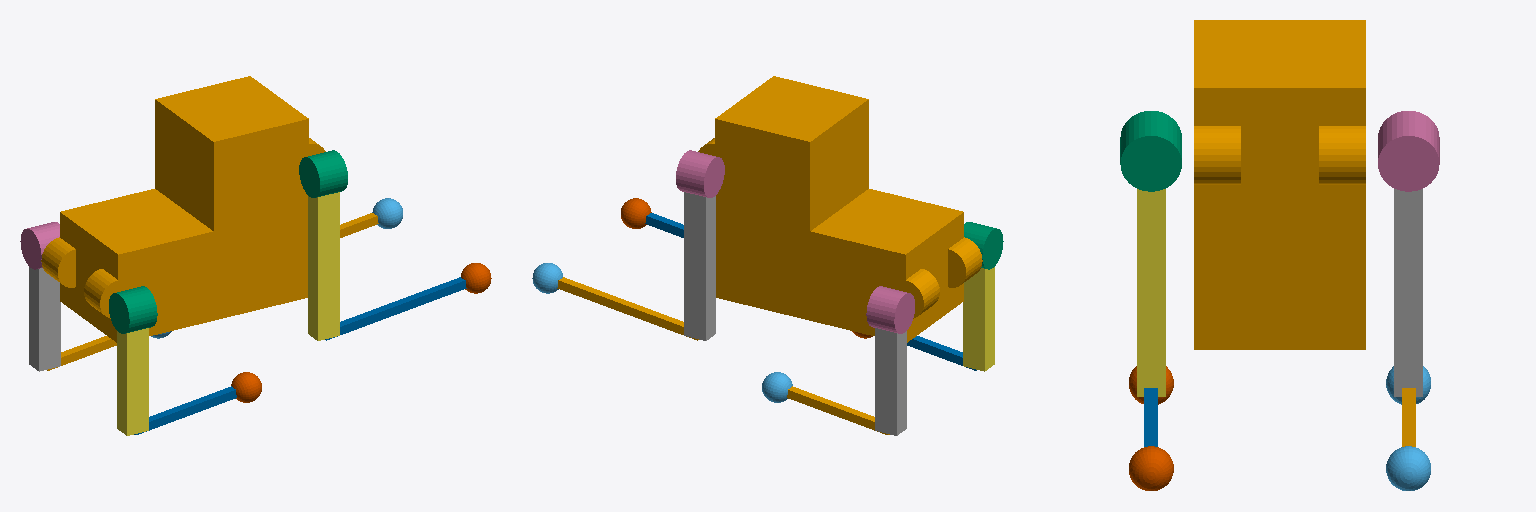
--- What the picture shows (computed from the rendered views, not written in the file) ---
3 views of the same robot in one strip: view 1: azimuth 30°, elevation 25°; view 2: azimuth 150°, elevation 25°; view 3: azimuth 270°, elevation 25° (orthographic).
Model laikago with 18 links and 17 joints (12 revolute, 5 fixed), rooted at trunk, posed joints at zero except 4 at the middle of their limits (FR_calf_joint = -1.69, FL_calf_joint = -1.69, RR_calf_joint = -1.69, RL_calf_joint = -1.69).
Links seen in each view (by area): view 1: trunk, FR_thigh, RR_thigh, RL_thigh, FR_hip, RR_hip, FR_calf, RR_calf, RL_hip, RL_calf, RR_foot, FL_foot (+1 smaller); view 2: trunk, FL_thigh, RL_thigh, RR_thigh, FL_hip, RL_hip, FL_calf, RL_calf, RR_hip, RR_calf, RL_foot, FR_foot (+1 smaller); view 3: trunk, FR_thigh, FL_thigh, FR_hip, FL_hip, FR_foot, FL_foot, FR_calf, FL_calf.
Boxes of the visible links, bbox=[...] form: trunk: bbox=[41, 76, 325, 342]; FR_thigh: bbox=[308, 192, 339, 340]; RR_thigh: bbox=[117, 328, 148, 435]; RL_thigh: bbox=[29, 267, 60, 371]; FR_hip: bbox=[299, 150, 347, 197]; RR_hip: bbox=[109, 286, 157, 333]; FR_calf: bbox=[325, 277, 466, 340]; RR_calf: bbox=[134, 386, 236, 434]; RL_hip: bbox=[20, 222, 59, 269]; RL_calf: bbox=[47, 336, 116, 370]; RR_foot: bbox=[231, 372, 261, 402]; FL_foot: bbox=[372, 198, 402, 228]; trunk: bbox=[698, 76, 982, 342]; FL_thigh: bbox=[684, 192, 715, 340]; RL_thigh: bbox=[875, 328, 906, 435]; RR_thigh: bbox=[963, 267, 994, 371]; FL_hip: bbox=[676, 150, 724, 197]; RL_hip: bbox=[866, 286, 914, 333]; FL_calf: bbox=[557, 277, 698, 340]; RL_calf: bbox=[787, 386, 889, 434]; RR_hip: bbox=[964, 222, 1003, 269]; RR_calf: bbox=[907, 336, 976, 370]; RL_foot: bbox=[762, 372, 792, 402]; FR_foot: bbox=[621, 198, 651, 228]; trunk: bbox=[1194, 20, 1365, 349]; FR_thigh: bbox=[1137, 189, 1165, 396]; FL_thigh: bbox=[1394, 189, 1422, 396]; FR_hip: bbox=[1120, 116, 1181, 191]; FL_hip: bbox=[1378, 116, 1439, 191]; FR_foot: bbox=[1129, 446, 1173, 490]; FL_foot: bbox=[1386, 446, 1430, 490]; FR_calf: bbox=[1144, 388, 1157, 446]; FL_calf: bbox=[1402, 388, 1415, 446].
Bounding box of the posed robot: 0.7372 × 0.372 × 0.4849 m (x, y, z).
Geometry: primitives only (box / cylinder / sphere), no mesh files.

URDF robot description (laikago):
<?xml version="1.0" ?>
<!-- =================================================================================== -->
<!-- |    This document was autogenerated by xacro from robot.xacro                    | -->
<!-- |    EDITING THIS FILE BY HAND IS NOT RECOMMENDED                                 | -->
<!-- =================================================================================== -->
<robot name="laikago">
  <!--    <xacro:property name="J1" value="0.5"/>-->
  <!--    <xacro:property name="L1" value="0.2"/>-->
  <!--    <xacro:property name="J2" value="${hip_mass}"/>-->
  <!--    <xacro:property name="L2" value="${thigh_mass}"/>-->
  <!--    <xacro:property name="J3" value="0.0"/>-->
  <!--    <xacro:property name="L3" value="0.0"/>-->
  <!--    <xacro:property name="J4" value="0.0"/>-->
  <!--    <xacro:property name="L4" value="${calf_mass * 1}"/>-->
  <!--    <xacro:property name="J5" value="0.0"/>-->
  <!--    <xacro:property name="L5" value="0.0"/>-->
  <!--    <xacro:property name="J6" value="0.0"/>-->
  <!--    <xacro:property name="hand" value="0.0"/>-->
  <material name="black">
    <color rgba="0.0 0.0 0.0 1.0"/>
  </material>
  <material name="blue">
    <color rgba="0.0 0.0 0.8 1.0"/>
  </material>
  <material name="green">
    <color rgba="0.0 0.8 0.0 1.0"/>
  </material>
  <material name="grey">
    <color rgba="0.2 0.2 0.2 1.0"/>
  </material>
  <material name="silver">
    <color rgba="0.9137254901960784 0.9137254901960784 0.8470588235294118 1.0"/>
  </material>
  <material name="orange">
    <color rgba="1.0 0.4235294117647059 0.0392156862745098 1.0"/>
  </material>
  <material name="brown">
    <color rgba="0.8705882352941177 0.8117647058823529 0.7647058823529411 1.0"/>
  </material>
  <material name="red">
    <color rgba="0.8 0.0 0.0 1.0"/>
  </material>
  <material name="white">
    <color rgba="1.0 1.0 1.0 1.0"/>
  </material>
  <!-- <xacro:include filename="$(find laikago_description)/xacro/transmission.xacro"/> -->
  <!-- <xacro:include filename="$(find laikago_description)/xacro/transmission.xacro"/> -->
  <!-- <xacro:include filename="gazebo.xacro"/> -->
  <!-- <link name="base">
        <visual>
            <origin rpy="0 0 0" xyz="0 0 0"/>
            <geometry>
                <box size="0.001 0.001 0.001"/>
            </geometry>
        </visual>
    </link>

    <joint name="floating_base" type="fixed">
        <origin rpy="0 0 0" xyz="0 0 0"/>
        <parent link="base"/>
        <child link="trunk"/>
    </joint> -->
  <link name="trunk">
    <!-- <visual>
            <origin rpy="0 0 0" xyz="0 0 0"/>
            <geometry>
                <mesh filename="package://laikago_description/meshes/trunk.dae" scale="1 1 1"/>
            </geometry>
            <material name="orange"/>
        </visual> -->
    <visual>
      <origin rpy="0 0 0" xyz="0 0 0.0"/>
      <geometry>
        <box size="0.375 0.2 0.168"/>
      </geometry>
    </visual>
    <visual>
      <origin rpy="0 0 0" xyz="0.09375 0 0.168"/>
      <geometry>
        <box size="0.1875 0.2 0.168"/>
      </geometry>
    </visual>
    <visual>
      <origin rpy="1.5707963267948966 0 0" xyz="0.1875 0.0725 0.168"/>
      <geometry>
        <cylinder length="0.055" radius="0.036"/>
      </geometry>
    </visual>
    <visual>
      <origin rpy="1.5707963267948966 0 0" xyz="0.1875 -0.0725 0.168"/>
      <geometry>
        <cylinder length="0.055" radius="0.036"/>
      </geometry>
    </visual>
    <visual>
      <origin rpy="1.5707963267948966 0 0" xyz="-0.1875 0.0725 0.0"/>
      <geometry>
        <cylinder length="0.055" radius="0.036"/>
      </geometry>
    </visual>
    <visual>
      <origin rpy="1.5707963267948966 0 0" xyz="-0.1875 -0.0725 0.0"/>
      <geometry>
        <cylinder length="0.055" radius="0.036"/>
      </geometry>
    </visual>
    <collision>
      <origin rpy="0 0 0" xyz="0 0 0.0"/>
      <geometry>
        <box size="0.375 0.2 0.168"/>
      </geometry>
    </collision>
    <collision>
      <origin rpy="0 0 0" xyz="0.09375 0 0.168"/>
      <geometry>
        <box size="0.1875 0.2 0.168"/>
      </geometry>
    </collision>
    <inertial>
      <origin rpy="0 0 0" xyz="0.0 0.0 0.0"/>
      <mass value="10.0"/>
      <inertia ixx="0.08" ixy="0.0" ixz="0.0" iyy="0.25" iyz="-0.0" izz="0.25"/>
    </inertial>
  </link>
  <joint name="imu_joint" type="fixed">
    <parent link="trunk"/>
    <child link="imu_link"/>
    <origin rpy="0 0 0" xyz="0 0 0"/>
  </joint>
  <link name="imu_link">
    <inertial>
      <mass value="0.001"/>
      <origin rpy="0 0 0" xyz="0 0 0"/>
      <inertia ixx="0.0001" ixy="0" ixz="0" iyy="0.000001" iyz="0" izz="0.0001"/>
    </inertial>
    <visual>
      <origin rpy="0 0 0" xyz="0 0 0"/>
      <geometry>
        <box size="0.001 0.001 0.001"/>
      </geometry>
      <material name="red"/>
    </visual>
    <collision>
      <origin rpy="0 0 0" xyz="0 0 0"/>
      <geometry>
        <box size=".001 .001 .001"/>
      </geometry>
    </collision>
  </link>
  <joint name="FR_hip_joint" type="revolute">
    <origin rpy="0 0 0" xyz="0.1875 -0.0725 0.168"/>
    <parent link="trunk"/>
    <child link="FR_hip"/>
    <axis xyz="0 1 0"/>
    <dynamics damping="0" friction="0"/>
    <limit effort="100.954" lower="-1.0471975511965976" upper="0.8726646259971648" velocity="27"/>
  </joint>
  <link name="FR_hip">
    <!-- <visual>
                <xacro:if value="${(mirror_dae == True) and (front_hind_dae == True)}">
                    <origin rpy="0 0 0" xyz="0 0 0"/>
                </xacro:if>
                <xacro:if value="${(mirror_dae == False) and (front_hind_dae == True)}">
                    <origin rpy="${PI} 0 0" xyz="0 0 0"/>
                </xacro:if>
                <xacro:if value="${(mirror_dae == True) and (front_hind_dae == False)}">
                    <origin rpy="0 ${PI} 0" xyz="0 0 0"/>
                </xacro:if>
                <xacro:if value="${(mirror_dae == False) and (front_hind_dae == False)}">
                    <origin rpy="${PI} ${PI} 0" xyz="0 0 0"/>
                </xacro:if>
                <geometry>
                    <mesh filename="package://laikago_description/meshes/hip.dae" scale="1 1 1"/>
                </geometry>
                <material name="orange"/>
            </visual> -->
    <visual>
      <origin rpy="0 1.5707963267948966 0" xyz="0 -0.0775 0"/>
      <geometry>
        <cylinder length="0.055" radius="0.036"/>
      </geometry>
    </visual>
    <collision>
      <origin rpy="0 1.5707963267948966 0" xyz="0 -0.0775 0"/>
      <geometry>
        <cylinder length="0.055" radius="0.036"/>
      </geometry>
    </collision>
    <inertial>
      <origin rpy="0 0 0" xyz="-0.001568 0.008134 0.000864"/>
      <mass value="0.55"/>
      <inertia ixx="0.000822113" ixy="4.982e-06" ixz="-3.672e-05" iyy="0.000983196" iyz="-2.811e-06" izz="0.000864753"/>
    </inertial>
  </link>
  <joint name="FR_thigh_joint" type="revolute">
    <origin rpy="0 0 0" xyz="0 -0.0775 0"/>
    <parent link="FR_hip"/>
    <child link="FR_thigh"/>
    <axis xyz="1 0 0"/>
    <dynamics damping="0" friction="0"/>
    <limit effort="100" lower="-0.5235987755982988" upper="3.9269908169872414" velocity="20.794"/>
  </joint>
  <link name="FR_thigh">
    <!-- <visual>
                <origin rpy="0 0 0" xyz="0 0 0"/>
                <geometry>
                    <xacro:if value="${mirror_dae == True}">
                        <mesh filename="package://laikago_description/meshes/thigh.dae" scale="1 1 1"/>
                    </xacro:if>
                    <xacro:if value="${mirror_dae == False}">
                        <mesh filename="package://laikago_description/meshes/thigh_mirror.dae" scale="1 1 1"/>
                    </xacro:if>
                </geometry>
                <material name="orange"/>
            </visual> -->
    <visual>
      <origin rpy="0 1.5707963267948966 0" xyz="0 0 -0.151"/>
      <geometry>
        <box size="0.302 0.034 0.043"/>
      </geometry>
    </visual>
    <collision>
      <origin rpy="0 1.5707963267948966 0" xyz="0 0 -0.151"/>
      <geometry>
        <box size="0.302 0.034 0.043"/>
      </geometry>
    </collision>
    <inertial>
      <origin rpy="0 0 0" xyz="-0.000482 -0.02001 -0.1"/>
      <mass value="1.6"/>
      <inertia ixx="0.00991611" ixy="-1.0388e-05" ixz="0.000250428" iyy="0.009280083" iyz="8.511e-05" izz="0.00178256"/>
    </inertial>
  </link>
  <joint name="FR_calf_joint" type="revolute">
    <origin rpy="0 0 0" xyz="0 0 -0.302"/>
    <parent link="FR_thigh"/>
    <child link="FR_calf"/>
    <axis xyz="0 1 0"/>
    <dynamics damping="0" friction="0"/>
    <limit effort="100" lower="-2.775073510670984" upper="-0.6108652381980153" velocity="20.794"/>
  </joint>
  <link name="FR_calf">
    <!-- <visual>
                <origin rpy="0 0 0" xyz="0 0 0"/>
                <geometry>
                    <mesh filename="package://laikago_description/meshes/calf.dae" scale="1 1 1"/>
                </geometry>
                <material name="orange"/>
            </visual> -->
    <visual>
      <origin rpy="0 1.5707963267948966 0" xyz="0 0 -0.151"/>
      <geometry>
        <box size="0.302 0.016 0.016"/>
      </geometry>
    </visual>
    <collision>
      <origin rpy="0 1.5707963267948966 0" xyz="0 0 -0.151"/>
      <geometry>
        <box size="0.302 0.016 0.016"/>
      </geometry>
    </collision>
    <inertial>
      <origin rpy="0 0 0" xyz="-0.002196 -0.000381 -0.2"/>
      <mass value="1.7"/>
      <inertia ixx="0.006181961" ixy="2.37e-07" ixz="-2.985e-06" iyy="0.006196546" iyz="5.138e-06" izz="3.4774e-05"/>
    </inertial>
  </link>
  <joint name="FR_foot_fixed" type="fixed">
    <origin rpy="0 0 0" xyz="0 0 -0.302"/>
    <parent link="FR_calf"/>
    <child link="FR_foot"/>
  </joint>
  <link name="FR_foot">
    <!-- <visual>
                <origin rpy="0 0 0" xyz="0 0 0"/>
                <geometry>
                    <sphere radius="${foot_radius-0.01}"/>
                </geometry>
                <material name="orange"/>
            </visual> -->
    <visual>
      <origin rpy="0 0 0" xyz="0 0 0"/>
      <geometry>
        <sphere radius="0.0265"/>
      </geometry>
    </visual>
    <collision>
      <origin rpy="0 0 0" xyz="0 0 0"/>
      <geometry>
        <sphere radius="0.0265"/>
      </geometry>
    </collision>
    <inertial>
      <mass value="0.06"/>
      <inertia ixx="1.6853999999999998e-05" ixy="0.0" ixz="0.0" iyy="1.6853999999999998e-05" iyz="0.0" izz="1.6853999999999998e-05"/>
    </inertial>
  </link>
  <!-- <xacro:leg_transmission name="${name}"/> -->
  <joint name="FL_hip_joint" type="revolute">
    <origin rpy="0 0 0" xyz="0.1875 0.0725 0.168"/>
    <parent link="trunk"/>
    <child link="FL_hip"/>
    <axis xyz="0 1 0"/>
    <dynamics damping="0" friction="0"/>
    <limit effort="100.954" lower="-0.8726646259971648" upper="1.0471975511965976" velocity="27"/>
  </joint>
  <link name="FL_hip">
    <!-- <visual>
                <xacro:if value="${(mirror_dae == True) and (front_hind_dae == True)}">
                    <origin rpy="0 0 0" xyz="0 0 0"/>
                </xacro:if>
                <xacro:if value="${(mirror_dae == False) and (front_hind_dae == True)}">
                    <origin rpy="${PI} 0 0" xyz="0 0 0"/>
                </xacro:if>
                <xacro:if value="${(mirror_dae == True) and (front_hind_dae == False)}">
                    <origin rpy="0 ${PI} 0" xyz="0 0 0"/>
                </xacro:if>
                <xacro:if value="${(mirror_dae == False) and (front_hind_dae == False)}">
                    <origin rpy="${PI} ${PI} 0" xyz="0 0 0"/>
                </xacro:if>
                <geometry>
                    <mesh filename="package://laikago_description/meshes/hip.dae" scale="1 1 1"/>
                </geometry>
                <material name="orange"/>
            </visual> -->
    <visual>
      <origin rpy="0 1.5707963267948966 0" xyz="0 0.0775 0"/>
      <geometry>
        <cylinder length="0.055" radius="0.036"/>
      </geometry>
    </visual>
    <collision>
      <origin rpy="0 1.5707963267948966 0" xyz="0 0.0775 0"/>
      <geometry>
        <cylinder length="0.055" radius="0.036"/>
      </geometry>
    </collision>
    <inertial>
      <origin rpy="0 0 0" xyz="-0.001568 -0.008134 0.000864"/>
      <mass value="0.55"/>
      <inertia ixx="0.000822113" ixy="-4.982e-06" ixz="-3.672e-05" iyy="0.000983196" iyz="2.811e-06" izz="0.000864753"/>
    </inertial>
  </link>
  <joint name="FL_thigh_joint" type="revolute">
    <origin rpy="0 0 0" xyz="0 0.0775 0"/>
    <parent link="FL_hip"/>
    <child link="FL_thigh"/>
    <axis xyz="1 0 0"/>
    <dynamics damping="0" friction="0"/>
    <limit effort="100" lower="-0.5235987755982988" upper="3.9269908169872414" velocity="20.794"/>
  </joint>
  <link name="FL_thigh">
    <!-- <visual>
                <origin rpy="0 0 0" xyz="0 0 0"/>
                <geometry>
                    <xacro:if value="${mirror_dae == True}">
                        <mesh filename="package://laikago_description/meshes/thigh.dae" scale="1 1 1"/>
                    </xacro:if>
                    <xacro:if value="${mirror_dae == False}">
                        <mesh filename="package://laikago_description/meshes/thigh_mirror.dae" scale="1 1 1"/>
                    </xacro:if>
                </geometry>
                <material name="orange"/>
            </visual> -->
    <visual>
      <origin rpy="0 1.5707963267948966 0" xyz="0 0 -0.151"/>
      <geometry>
        <box size="0.302 0.034 0.043"/>
      </geometry>
    </visual>
    <collision>
      <origin rpy="0 1.5707963267948966 0" xyz="0 0 -0.151"/>
      <geometry>
        <box size="0.302 0.034 0.043"/>
      </geometry>
    </collision>
    <inertial>
      <origin rpy="0 0 0" xyz="-0.000482 0.02001 -0.1"/>
      <mass value="1.6"/>
      <inertia ixx="0.00991611" ixy="1.0388e-05" ixz="0.000250428" iyy="0.009280083" iyz="-8.511e-05" izz="0.00178256"/>
    </inertial>
  </link>
  <joint name="FL_calf_joint" type="revolute">
    <origin rpy="0 0 0" xyz="0 0 -0.302"/>
    <parent link="FL_thigh"/>
    <child link="FL_calf"/>
    <axis xyz="0 1 0"/>
    <dynamics damping="0" friction="0"/>
    <limit effort="100" lower="-2.775073510670984" upper="-0.6108652381980153" velocity="20.794"/>
  </joint>
  <link name="FL_calf">
    <!-- <visual>
                <origin rpy="0 0 0" xyz="0 0 0"/>
                <geometry>
                    <mesh filename="package://laikago_description/meshes/calf.dae" scale="1 1 1"/>
                </geometry>
                <material name="orange"/>
            </visual> -->
    <visual>
      <origin rpy="0 1.5707963267948966 0" xyz="0 0 -0.151"/>
      <geometry>
        <box size="0.302 0.016 0.016"/>
      </geometry>
    </visual>
    <collision>
      <origin rpy="0 1.5707963267948966 0" xyz="0 0 -0.151"/>
      <geometry>
        <box size="0.302 0.016 0.016"/>
      </geometry>
    </collision>
    <inertial>
      <origin rpy="0 0 0" xyz="-0.002196 -0.000381 -0.2"/>
      <mass value="1.7"/>
      <inertia ixx="0.006181961" ixy="2.37e-07" ixz="-2.985e-06" iyy="0.006196546" iyz="5.138e-06" izz="3.4774e-05"/>
    </inertial>
  </link>
  <joint name="FL_foot_fixed" type="fixed">
    <origin rpy="0 0 0" xyz="0 0 -0.302"/>
    <parent link="FL_calf"/>
    <child link="FL_foot"/>
  </joint>
  <link name="FL_foot">
    <!-- <visual>
                <origin rpy="0 0 0" xyz="0 0 0"/>
                <geometry>
                    <sphere radius="${foot_radius-0.01}"/>
                </geometry>
                <material name="orange"/>
            </visual> -->
    <visual>
      <origin rpy="0 0 0" xyz="0 0 0"/>
      <geometry>
        <sphere radius="0.0265"/>
      </geometry>
    </visual>
    <collision>
      <origin rpy="0 0 0" xyz="0 0 0"/>
      <geometry>
        <sphere radius="0.0265"/>
      </geometry>
    </collision>
    <inertial>
      <mass value="0.06"/>
      <inertia ixx="1.6853999999999998e-05" ixy="0.0" ixz="0.0" iyy="1.6853999999999998e-05" iyz="0.0" izz="1.6853999999999998e-05"/>
    </inertial>
  </link>
  <!-- <xacro:leg_transmission name="${name}"/> -->
  <joint name="RR_hip_joint" type="revolute">
    <origin rpy="0 0 0" xyz="-0.1875 -0.0725 0.0"/>
    <parent link="trunk"/>
    <child link="RR_hip"/>
    <axis xyz="0 1 0"/>
    <dynamics damping="0" friction="0"/>
    <limit effort="100.954" lower="-1.0471975511965976" upper="0.8726646259971648" velocity="27"/>
  </joint>
  <link name="RR_hip">
    <!-- <visual>
                <xacro:if value="${(mirror_dae == True) and (front_hind_dae == True)}">
                    <origin rpy="0 0 0" xyz="0 0 0"/>
                </xacro:if>
                <xacro:if value="${(mirror_dae == False) and (front_hind_dae == True)}">
                    <origin rpy="${PI} 0 0" xyz="0 0 0"/>
                </xacro:if>
                <xacro:if value="${(mirror_dae == True) and (front_hind_dae == False)}">
                    <origin rpy="0 ${PI} 0" xyz="0 0 0"/>
                </xacro:if>
                <xacro:if value="${(mirror_dae == False) and (front_hind_dae == False)}">
                    <origin rpy="${PI} ${PI} 0" xyz="0 0 0"/>
                </xacro:if>
                <geometry>
                    <mesh filename="package://laikago_description/meshes/hip.dae" scale="1 1 1"/>
                </geometry>
                <material name="orange"/>
            </visual> -->
    <visual>
      <origin rpy="0 1.5707963267948966 0" xyz="0 -0.0775 0"/>
      <geometry>
        <cylinder length="0.055" radius="0.036"/>
      </geometry>
    </visual>
    <collision>
      <origin rpy="0 1.5707963267948966 0" xyz="0 -0.0775 0"/>
      <geometry>
        <cylinder length="0.055" radius="0.036"/>
      </geometry>
    </collision>
    <inertial>
      <origin rpy="0 0 0" xyz="0.001568 0.008134 0.000864"/>
      <mass value="1.096"/>
      <inertia ixx="0.000822113" ixy="-4.982e-06" ixz="3.672e-05" iyy="0.000983196" iyz="-2.811e-06" izz="0.000864753"/>
    </inertial>
  </link>
  <joint name="RR_thigh_joint" type="revolute">
    <origin rpy="0 0 0" xyz="0 -0.0775 0"/>
    <parent link="RR_hip"/>
    <child link="RR_thigh"/>
    <axis xyz="1 0 0"/>
    <dynamics damping="0" friction="0"/>
    <limit effort="100" lower="-0.5235987755982988" upper="3.9269908169872414" velocity="20.794"/>
  </joint>
  <link name="RR_thigh">
    <!-- <visual>
                <origin rpy="0 0 0" xyz="0 0 0"/>
                <geometry>
                    <xacro:if value="${mirror_dae == True}">
                        <mesh filename="package://laikago_description/meshes/thigh.dae" scale="1 1 1"/>
                    </xacro:if>
                    <xacro:if value="${mirror_dae == False}">
                        <mesh filename="package://laikago_description/meshes/thigh_mirror.dae" scale="1 1 1"/>
                    </xacro:if>
                </geometry>
                <material name="orange"/>
            </visual> -->
    <visual>
      <origin rpy="0 1.5707963267948966 0" xyz="0 0 -0.1125"/>
      <geometry>
        <box size="0.225 0.034 0.043"/>
      </geometry>
    </visual>
    <collision>
      <origin rpy="0 1.5707963267948966 0" xyz="0 0 -0.1125"/>
      <geometry>
        <box size="0.225 0.034 0.043"/>
      </geometry>
    </collision>
    <inertial>
      <origin rpy="0 0 0" xyz="-0.000482 -0.02001 -0.031996"/>
      <mass value="1.528"/>
      <inertia ixx="0.00991611" ixy="-1.0388e-05" ixz="0.000250428" iyy="0.009280083" iyz="8.511e-05" izz="0.00178256"/>
    </inertial>
  </link>
  <joint name="RR_calf_joint" type="revolute">
    <origin rpy="0 0 0" xyz="0 0 -0.225"/>
    <parent link="RR_thigh"/>
    <child link="RR_calf"/>
    <axis xyz="0 1 0"/>
    <dynamics damping="0" friction="0"/>
    <limit effort="100" lower="-2.775073510670984" upper="-0.6108652381980153" velocity="20.794"/>
  </joint>
  <link name="RR_calf">
    <!-- <visual>
                <origin rpy="0 0 0" xyz="0 0 0"/>
                <geometry>
                    <mesh filename="package://laikago_description/meshes/calf.dae" scale="1 1 1"/>
                </geometry>
                <material name="orange"/>
            </visual> -->
    <visual>
      <origin rpy="0 1.5707963267948966 0" xyz="0 0 -0.1125"/>
      <geometry>
        <box size="0.225 0.016 0.016"/>
      </geometry>
    </visual>
    <collision>
      <origin rpy="0 1.5707963267948966 0" xyz="0 0 -0.1125"/>
      <geometry>
        <box size="0.225 0.016 0.016"/>
      </geometry>
    </collision>
    <inertial>
      <origin rpy="0 0 0" xyz="-0.002196 -0.000381 -0.12338"/>
      <mass value="0.241"/>
      <inertia ixx="0.006181961" ixy="2.37e-07" ixz="-2.985e-06" iyy="0.006196546" iyz="5.138e-06" izz="3.4774e-05"/>
    </inertial>
  </link>
  <joint name="RR_foot_fixed" type="fixed">
    <origin rpy="0 0 0" xyz="0 0 -0.225"/>
    <parent link="RR_calf"/>
    <child link="RR_foot"/>
  </joint>
  <link name="RR_foot">
    <!-- <visual>
                <origin rpy="0 0 0" xyz="0 0 0"/>
                <geometry>
                    <sphere radius="${foot_radius-0.01}"/>
                </geometry>
                <material name="orange"/>
            </visual> -->
    <visual>
      <origin rpy="0 0 0" xyz="0 0 0"/>
      <geometry>
        <sphere radius="0.0265"/>
      </geometry>
    </visual>
    <collision>
      <origin rpy="0 0 0" xyz="0 0 0"/>
      <geometry>
        <sphere radius="0.0265"/>
      </geometry>
    </collision>
    <inertial>
      <mass value="0.06"/>
      <inertia ixx="1.6853999999999998e-05" ixy="0.0" ixz="0.0" iyy="1.6853999999999998e-05" iyz="0.0" izz="1.6853999999999998e-05"/>
    </inertial>
  </link>
  <!-- <xacro:leg_transmission name="${name}"/> -->
  <joint name="RL_hip_joint" type="revolute">
    <origin rpy="0 0 0" xyz="-0.1875 0.0725 0.0"/>
    <parent link="trunk"/>
    <child link="RL_hip"/>
    <axis xyz="0 1 0"/>
    <dynamics damping="0" friction="0"/>
    <limit effort="100.954" lower="-0.8726646259971648" upper="1.0471975511965976" velocity="27"/>
  </joint>
  <link name="RL_hip">
    <!-- <visual>
                <xacro:if value="${(mirror_dae == True) and (front_hind_dae == True)}">
                    <origin rpy="0 0 0" xyz="0 0 0"/>
                </xacro:if>
                <xacro:if value="${(mirror_dae == False) and (front_hind_dae == True)}">
                    <origin rpy="${PI} 0 0" xyz="0 0 0"/>
                </xacro:if>
                <xacro:if value="${(mirror_dae == True) and (front_hind_dae == False)}">
                    <origin rpy="0 ${PI} 0" xyz="0 0 0"/>
                </xacro:if>
                <xacro:if value="${(mirror_dae == False) and (front_hind_dae == False)}">
                    <origin rpy="${PI} ${PI} 0" xyz="0 0 0"/>
                </xacro:if>
                <geometry>
                    <mesh filename="package://laikago_description/meshes/hip.dae" scale="1 1 1"/>
                </geometry>
                <material name="orange"/>
            </visual> -->
    <visual>
      <origin rpy="0 1.5707963267948966 0" xyz="0 0.0775 0"/>
      <geometry>
        <cylinder length="0.055" radius="0.036"/>
      </geometry>
    </visual>
    <collision>
      <origin rpy="0 1.5707963267948966 0" xyz="0 0.0775 0"/>
      <geometry>
        <cylinder length="0.055" radius="0.036"/>
      </geometry>
    </collision>
    <inertial>
      <origin rpy="0 0 0" xyz="0.001568 -0.008134 0.000864"/>
      <mass value="1.096"/>
      <inertia ixx="0.000822113" ixy="4.982e-06" ixz="3.672e-05" iyy="0.000983196" iyz="2.811e-06" izz="0.000864753"/>
    </inertial>
  </link>
  <joint name="RL_thigh_joint" type="revolute">
    <origin rpy="0 0 0" xyz="0 0.0775 0"/>
    <parent link="RL_hip"/>
    <child link="RL_thigh"/>
    <axis xyz="1 0 0"/>
    <dynamics damping="0" friction="0"/>
    <limit effort="100" lower="-0.5235987755982988" upper="3.9269908169872414" velocity="20.794"/>
  </joint>
  <link name="RL_thigh">
    <!-- <visual>
                <origin rpy="0 0 0" xyz="0 0 0"/>
                <geometry>
                    <xacro:if value="${mirror_dae == True}">
                        <mesh filename="package://laikago_description/meshes/thigh.dae" scale="1 1 1"/>
                    </xacro:if>
                    <xacro:if value="${mirror_dae == False}">
                        <mesh filename="package://laikago_description/meshes/thigh_mirror.dae" scale="1 1 1"/>
                    </xacro:if>
                </geometry>
                <material name="orange"/>
            </visual> -->
    <visual>
      <origin rpy="0 1.5707963267948966 0" xyz="0 0 -0.1125"/>
      <geometry>
        <box size="0.225 0.034 0.043"/>
      </geometry>
    </visual>
    <collision>
      <origin rpy="0 1.5707963267948966 0" xyz="0 0 -0.1125"/>
      <geometry>
        <box size="0.225 0.034 0.043"/>
      </geometry>
    </collision>
    <inertial>
      <origin rpy="0 0 0" xyz="-0.000482 0.02001 -0.031996"/>
      <mass value="1.528"/>
      <inertia ixx="0.00991611" ixy="1.0388e-05" ixz="0.000250428" iyy="0.009280083" iyz="-8.511e-05" izz="0.00178256"/>
    </inertial>
  </link>
  <joint name="RL_calf_joint" type="revolute">
    <origin rpy="0 0 0" xyz="0 0 -0.225"/>
    <parent link="RL_thigh"/>
    <child link="RL_calf"/>
    <axis xyz="0 1 0"/>
    <dynamics damping="0" friction="0"/>
    <limit effort="100" lower="-2.775073510670984" upper="-0.6108652381980153" velocity="20.794"/>
  </joint>
  <link name="RL_calf">
    <!-- <visual>
                <origin rpy="0 0 0" xyz="0 0 0"/>
                <geometry>
                    <mesh filename="package://laikago_description/meshes/calf.dae" scale="1 1 1"/>
                </geometry>
                <material name="orange"/>
            </visual> -->
    <visual>
      <origin rpy="0 1.5707963267948966 0" xyz="0 0 -0.1125"/>
      <geometry>
        <box size="0.225 0.016 0.016"/>
      </geometry>
    </visual>
    <collision>
      <origin rpy="0 1.5707963267948966 0" xyz="0 0 -0.1125"/>
      <geometry>
        <box size="0.225 0.016 0.016"/>
      </geometry>
    </collision>
    <inertial>
      <origin rpy="0 0 0" xyz="-0.002196 -0.000381 -0.12338"/>
      <mass value="0.241"/>
      <inertia ixx="0.006181961" ixy="2.37e-07" ixz="-2.985e-06" iyy="0.006196546" iyz="5.138e-06" izz="3.4774e-05"/>
    </inertial>
  </link>
  <joint name="RL_foot_fixed" type="fixed">
    <origin rpy="0 0 0" xyz="0 0 -0.225"/>
    <parent link="RL_calf"/>
    <child link="RL_foot"/>
  </joint>
  <link name="RL_foot">
    <!-- <visual>
                <origin rpy="0 0 0" xyz="0 0 0"/>
                <geometry>
                    <sphere radius="${foot_radius-0.01}"/>
                </geometry>
                <material name="orange"/>
            </visual> -->
    <visual>
      <origin rpy="0 0 0" xyz="0 0 0"/>
      <geometry>
        <sphere radius="0.0265"/>
      </geometry>
    </visual>
    <collision>
      <origin rpy="0 0 0" xyz="0 0 0"/>
      <geometry>
        <sphere radius="0.0265"/>
      </geometry>
    </collision>
    <inertial>
      <mass value="0.06"/>
      <inertia ixx="1.6853999999999998e-05" ixy="0.0" ixz="0.0" iyy="1.6853999999999998e-05" iyz="0.0" izz="1.6853999999999998e-05"/>
    </inertial>
  </link>
  <!-- <xacro:leg_transmission name="${name}"/> -->
</robot>
